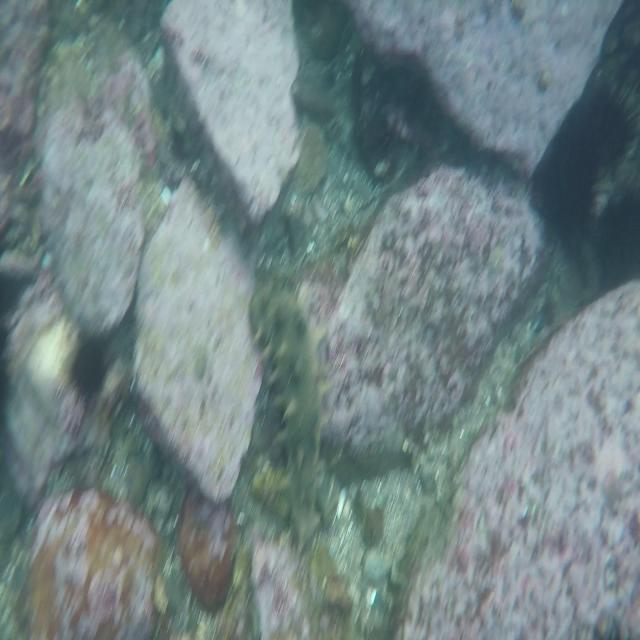echinus: (539, 128, 599, 252), (577, 67, 635, 164), (60, 332, 114, 418), (600, 185, 638, 274)
holothurian: (246, 275, 326, 550)
